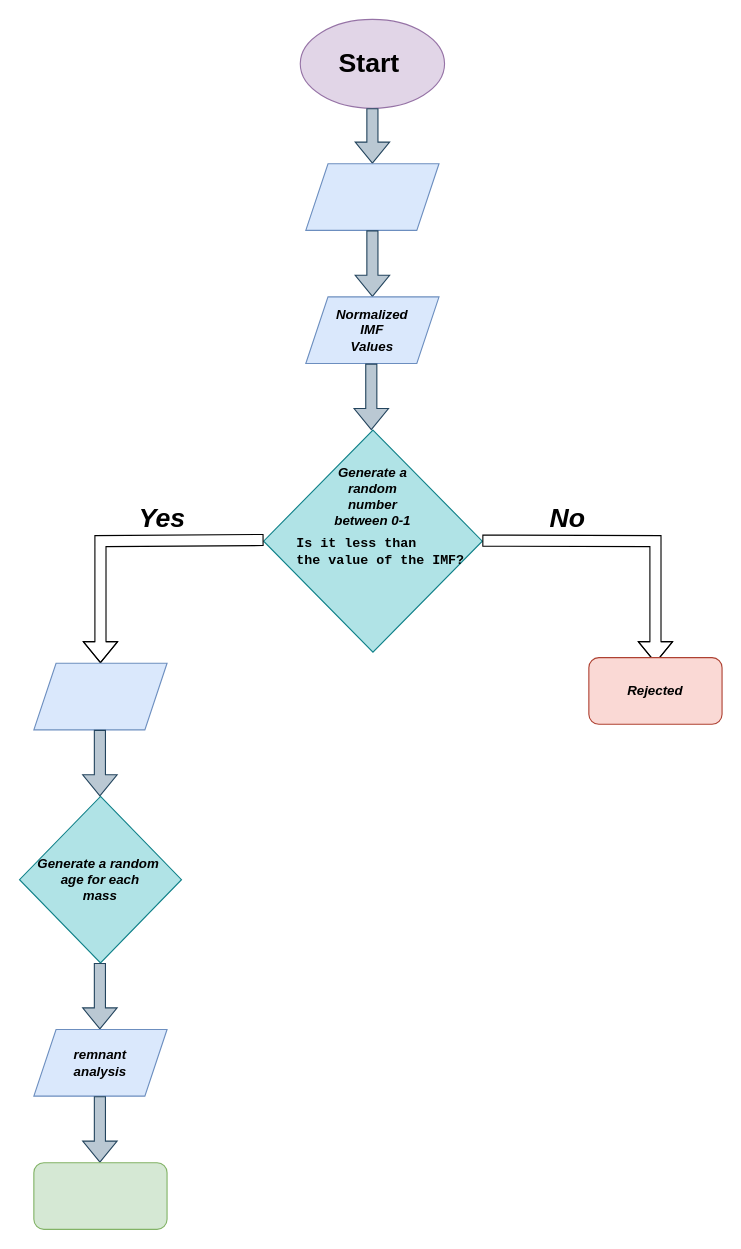
The diagram is 741 pixels wide and 1249 high, and some of its shapes have lost their labels. The shapes that lost their labels are listed below. From the top down, each one's box as (x1, y1, x2, y2) in pixels, then its label:
(305, 163, 439, 230): Random masses list
(33, 662, 167, 730): Saved masses list
(33, 1162, 167, 1229): Save as Dataframe
